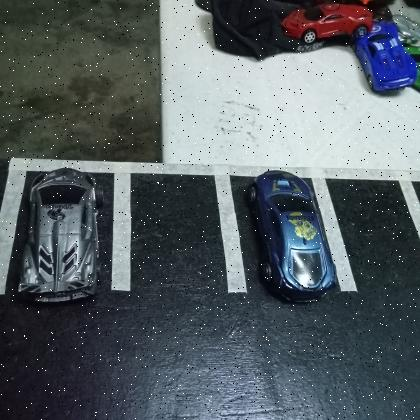Car: (248, 171, 337, 305), (15, 169, 99, 305)
